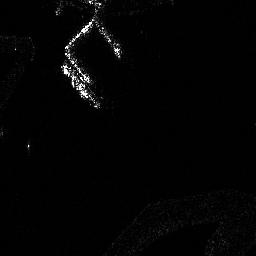ship: (60, 64, 88, 100)
